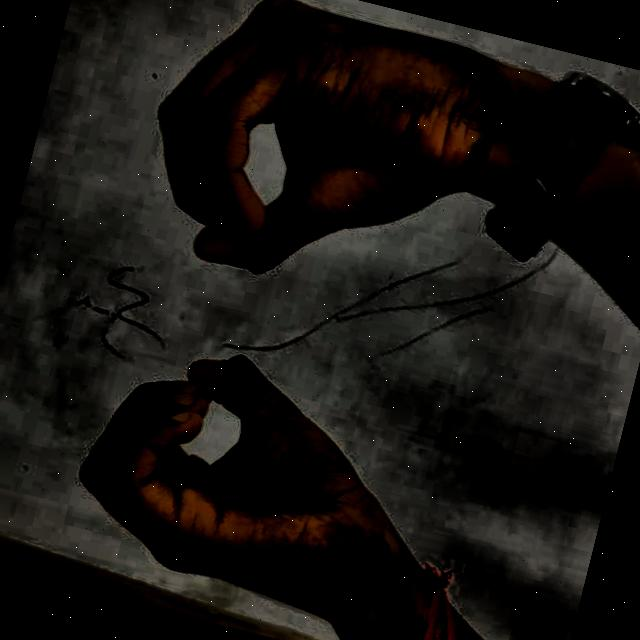Bisharga: (22, 0, 532, 640)
